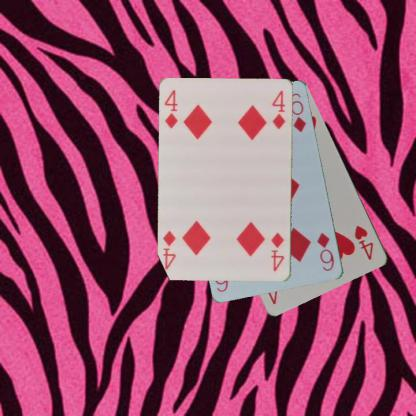4d: (269, 230, 286, 273), (162, 88, 179, 130)
4h: (352, 222, 375, 262)
6d: (314, 230, 336, 273)
